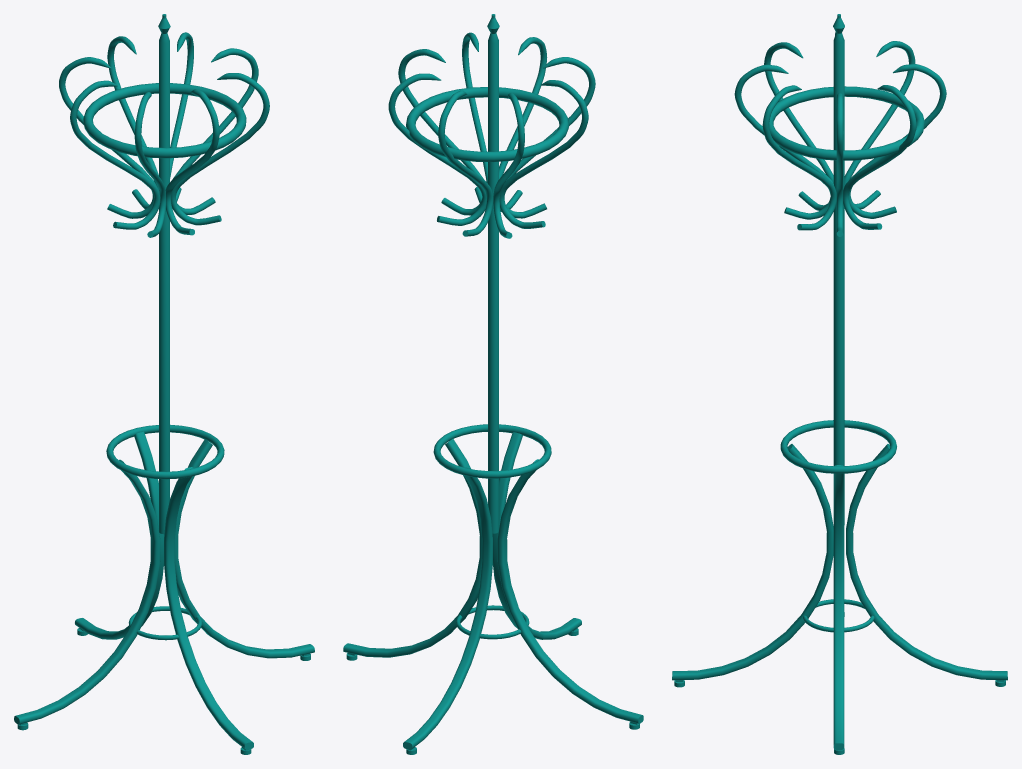
Rendered from Coat Hanger.fbx.
The picture shows the model from 3 angles, left to right: view 1: azimuth 30°, elevation 25°; view 2: azimuth 150°, elevation 25°; view 3: azimuth 270°, elevation 25°; orthographic projection.
Parts seen in each view (by area): view 1: w; view 2: w; view 3: w.
Part boxes in pixels (x1,y1,x2,y2): w: (14, 14, 314, 754); w: (343, 14, 643, 754); w: (672, 14, 1007, 754).
Bounding box in the file's own units: 52.21 × 115 × 52.02.
